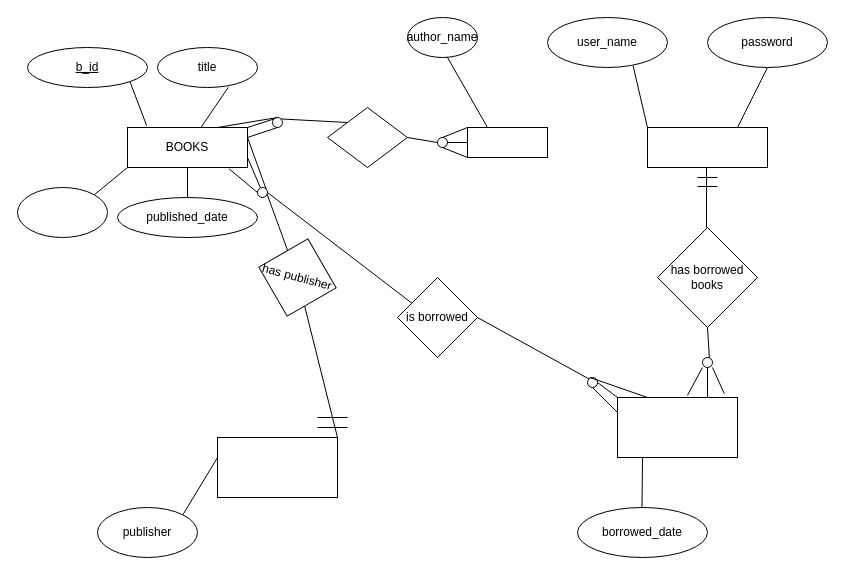
The diagram is 845 pixels wide and 575 high, and some of its shapes have lost their labels. Here are the shapes that lost their labels. From the top down, the centre of each, then its label:
[367,137]: has author
[507,142]: AUTHORS
[707,147]: USERS
[62,212]: edition
[677,427]: BORROWED_BOOKS
[277,467]: PUBLISHERS
